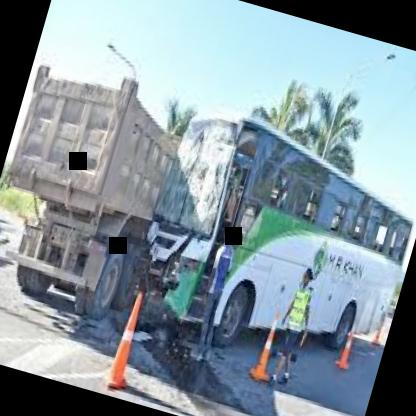accident: (0, 40, 416, 396)
